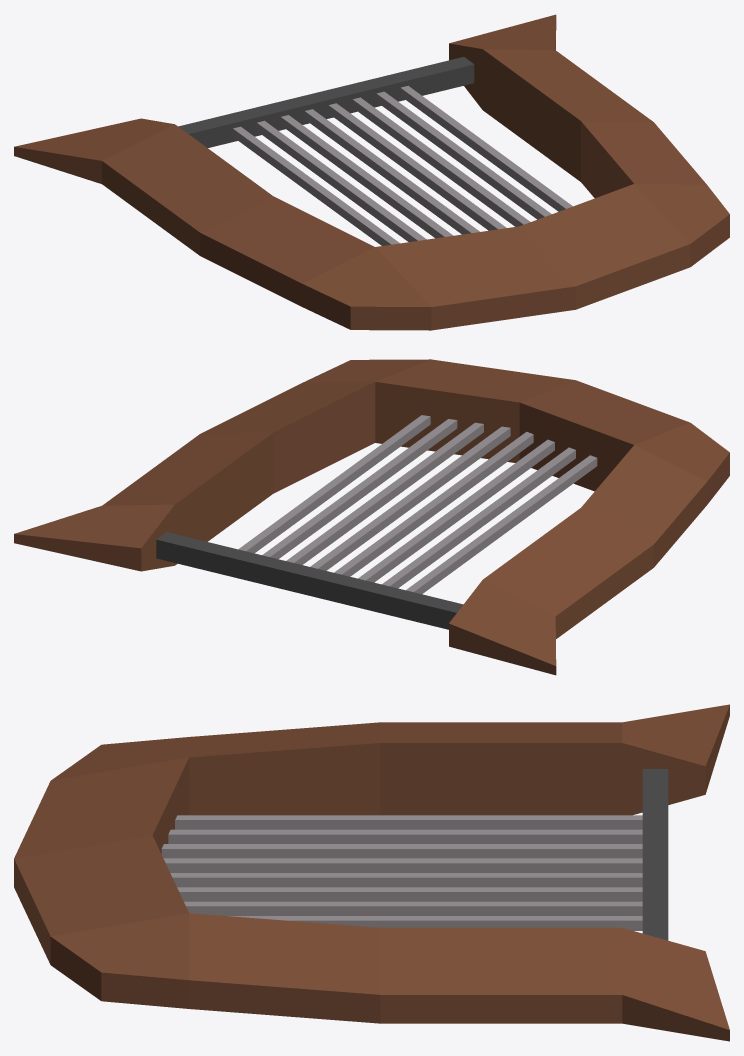
File: lyre.fbx
3 renders of one model, top to bottom at view 1: azimuth 30°, elevation 25°; view 2: azimuth 150°, elevation 25°; view 3: azimuth 270°, elevation 25°, orthographic. The views are drawn at different scales.
Parts seen in each view (by area): view 1: lyre, strings, bar; view 2: lyre, strings, bar; view 3: lyre, strings, bar.
Part boxes in pixels (<box>): lyre: <box>14,14,729,330</box>; strings: <box>233,85,572,245</box>; bar: <box>178,57,474,147</box>; lyre: <box>14,359,729,675</box>; strings: <box>238,415,597,594</box>; bar: <box>156,532,463,629</box>; lyre: <box>14,704,729,1041</box>; strings: <box>161,815,642,930</box>; bar: <box>642,769,668,940</box>.
Size of the model in its own units: 21.47 by 2.31 by 19.94.
